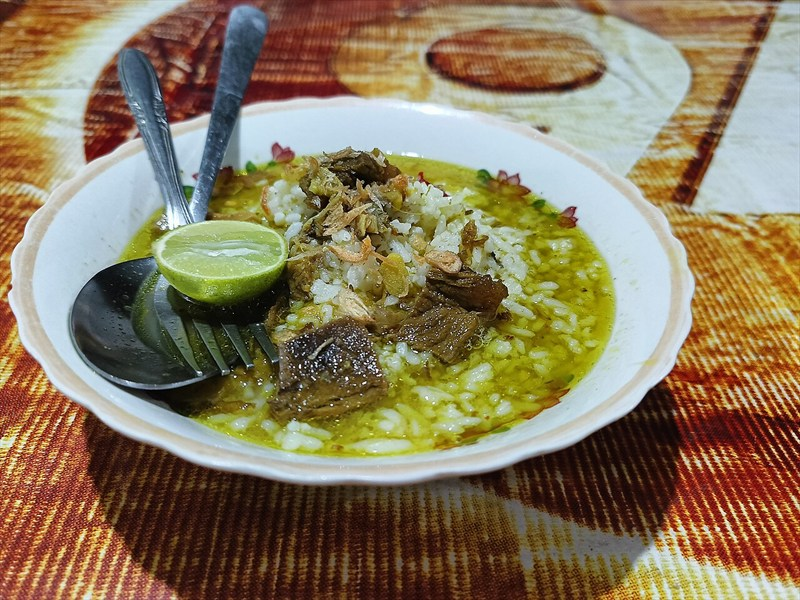Soto Ayam: (52, 69, 728, 501)
